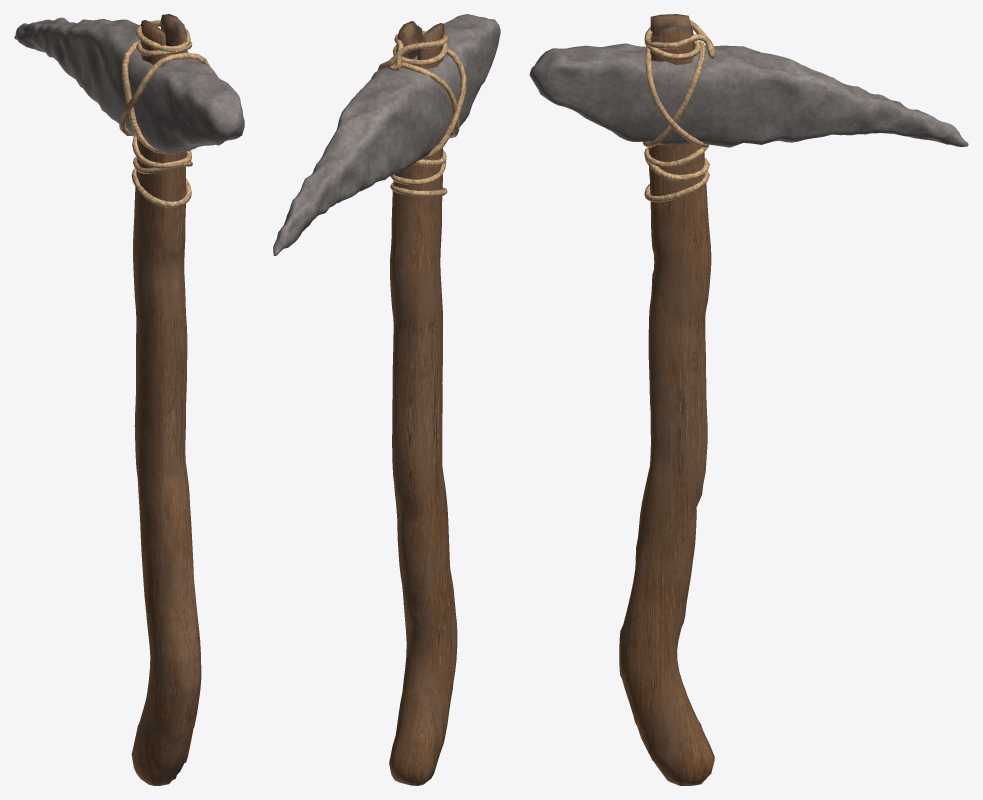
The model's file is StonePickaxe.fbx.
The picture shows the model from 3 angles, left to right: view 1: azimuth 30°, elevation 25°; view 2: azimuth 150°, elevation 25°; view 3: azimuth 270°, elevation 25°; orthographic projection.
Parts seen in each view (by area): view 1: Stick handline, Stone blade, ОкружностьБезье.001; view 2: Stick handline, Stone blade, ОкружностьБезье.001; view 3: Stick handline, Stone blade, ОкружностьБезье.001.
Part boxes in pixels (x1,y1,x2,y2): Stick handline: (131,14,201,785); Stone blade: (14,17,244,154); ОкружностьБезье.001: (119,20,209,207); Stick handline: (389,21,457,785); Stone blade: (273,14,500,255); ОкружностьБезье.001: (377,31,466,196); Stick handline: (619,14,714,785); Stone blade: (529,43,968,147); ОкружностьБезье.001: (642,20,715,202).
Size of the model in its own units: 0.0814 by 0.757 by 0.3957.
